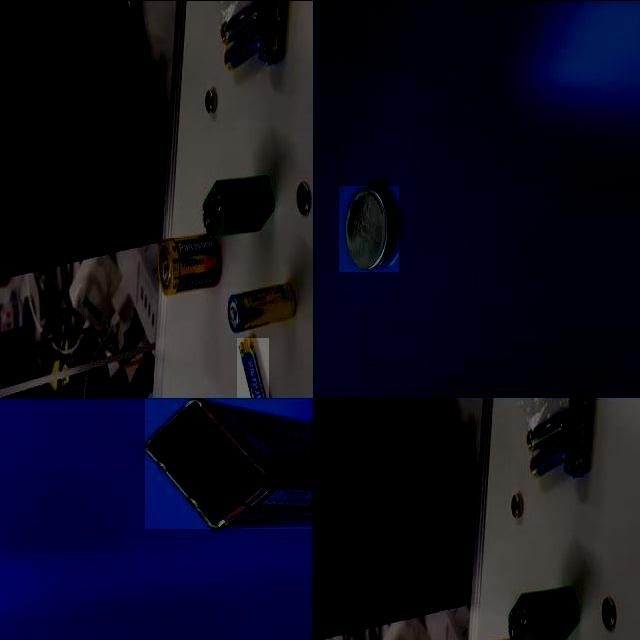9V: (145, 397, 313, 528), (203, 173, 277, 234), (508, 584, 579, 640)
